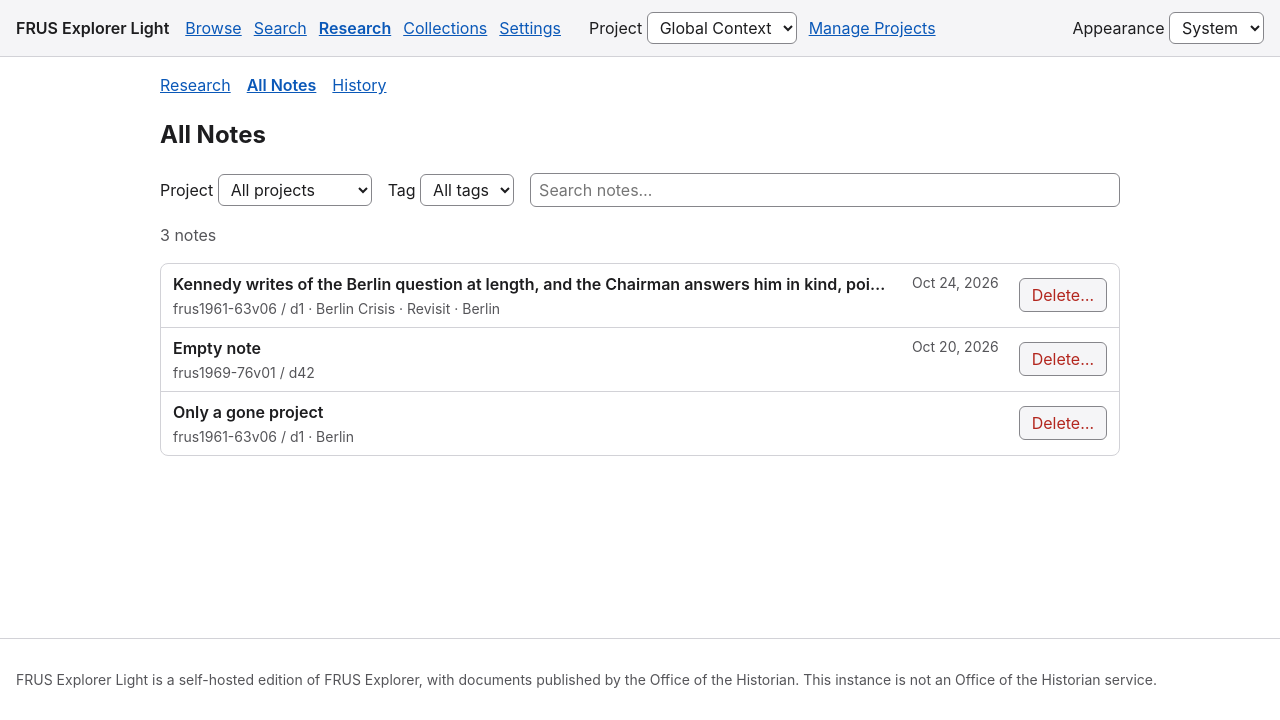
Scenario: All Notes › sends focus on once a note deleted from its question or its editor has gone, though a frame comes before React’s next task
This screenshot has width=1280, height=720.
Expected: the list named "All Notes" is shown, [160,263,1120,456]
Click the 1st button "Delete…".
click(1063, 295)  # box [1019,278,1107,312]
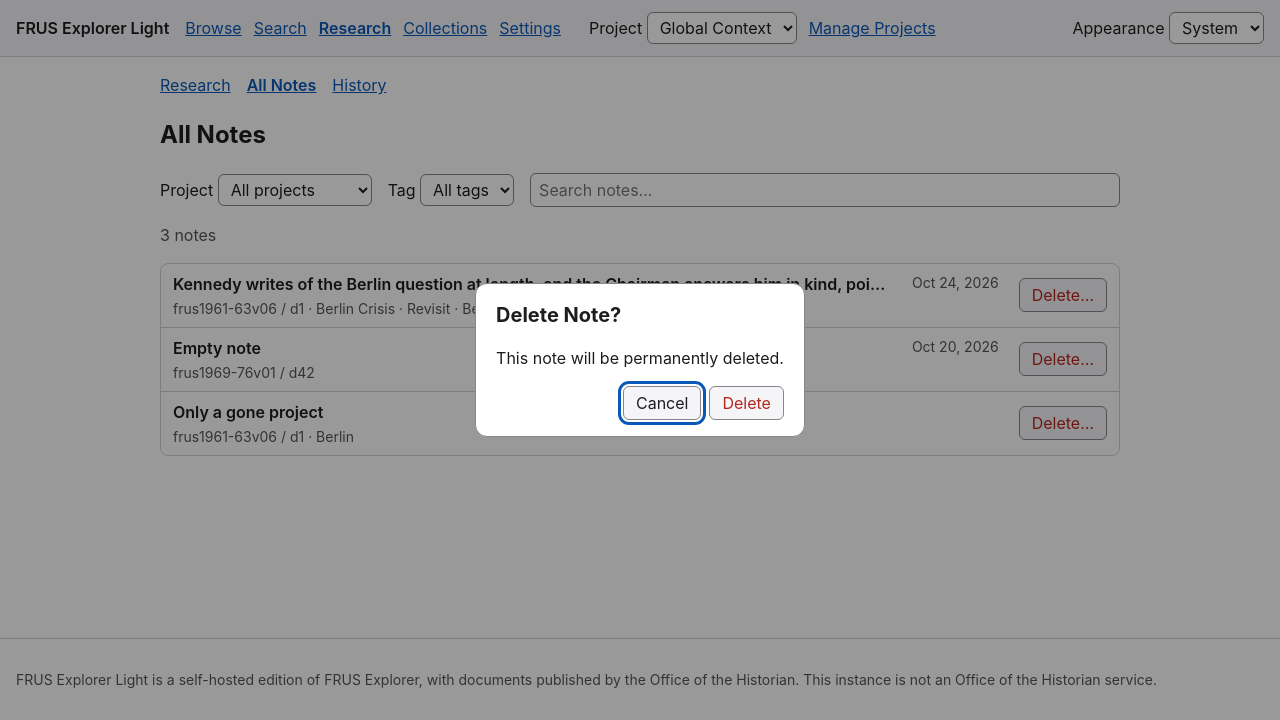
Click the button "Delete".
click(747, 403)  # box [709,386,784,420]
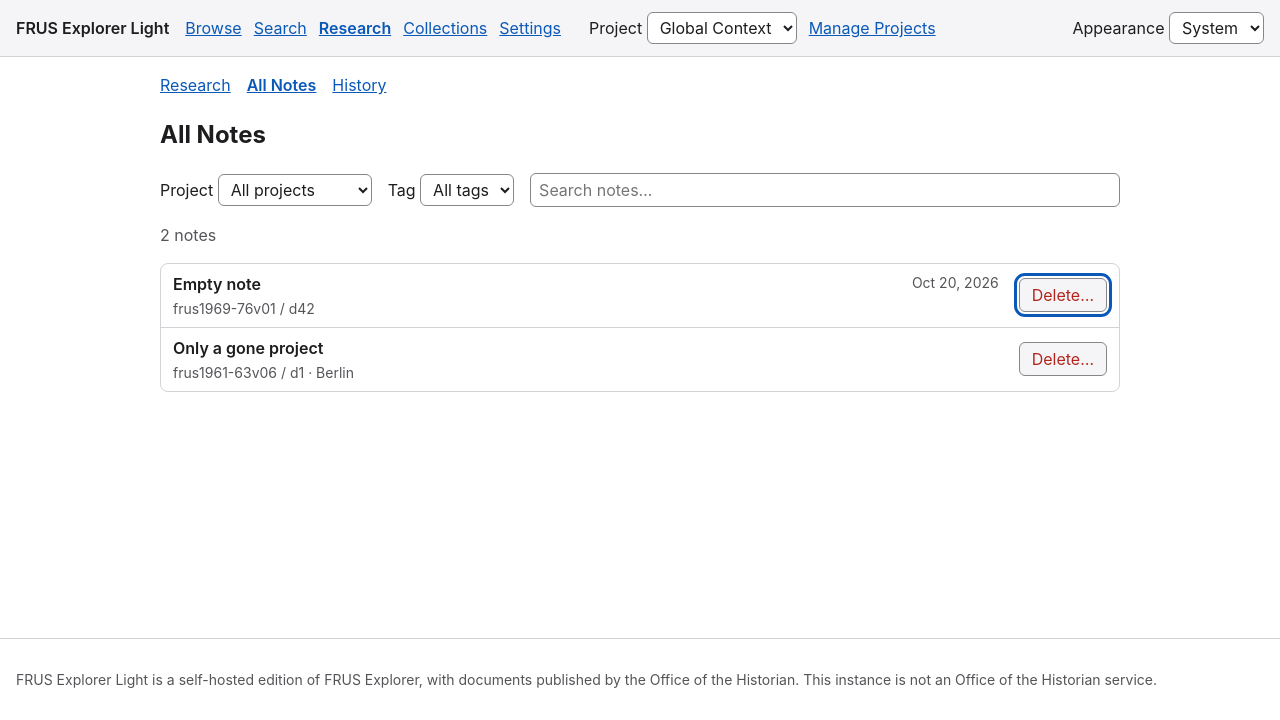
// The editor's own Delete, which asks nothing: its row gone, focus goes to the heading.
Click the button "Empty note frus1969-76v01 / d42 Oct 20, 2026".
click(217, 284)  # box [161,264,1011,327]
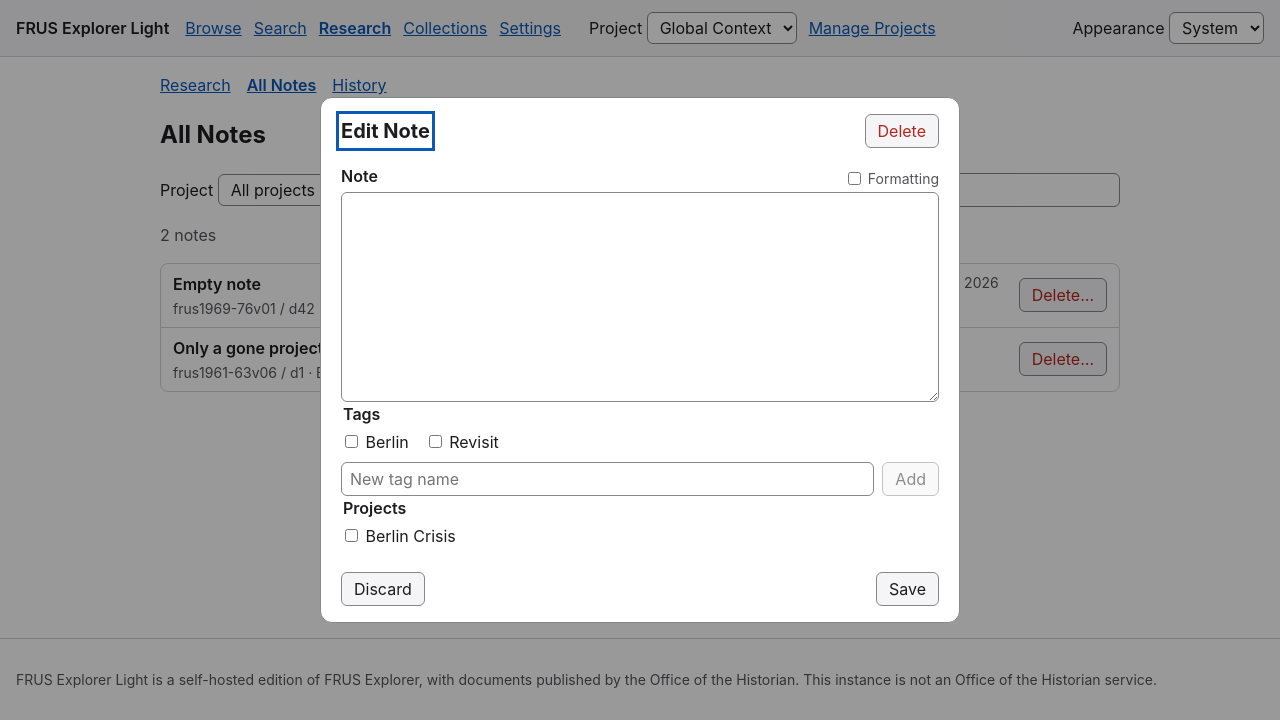
Click the button "Delete".
click(902, 131)  # box [864,114,939,148]
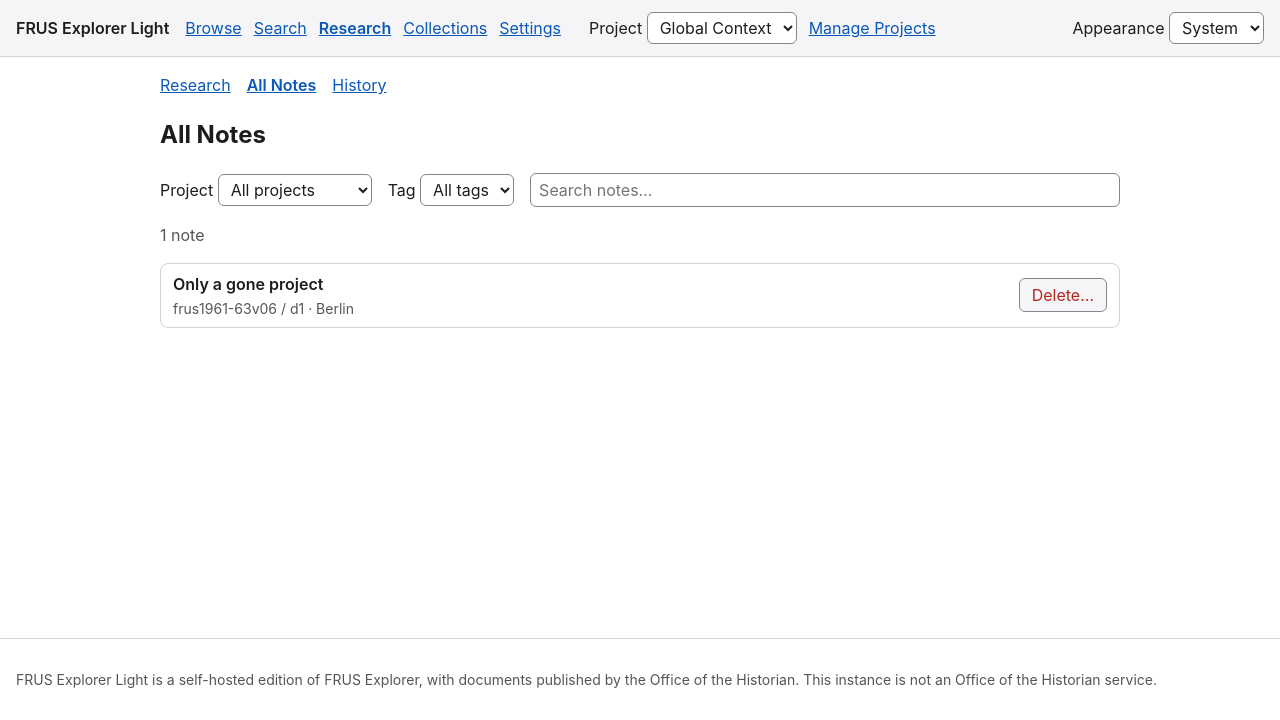
Now the dialog is gone
